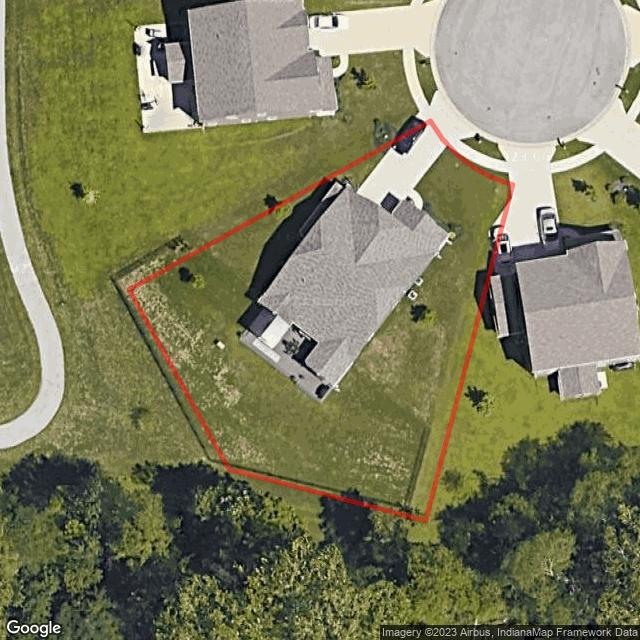Driveway: (358, 124, 447, 214)
Extra Driveway: (431, 102, 477, 143)
Extra Lawn: (461, 134, 505, 160), (468, 160, 509, 181)
Extra Sidewalk: (450, 140, 525, 183)
House: (249, 181, 446, 386)
Other: (240, 325, 332, 404), (488, 210, 504, 253), (406, 290, 418, 301), (415, 278, 424, 286), (215, 341, 224, 349)
